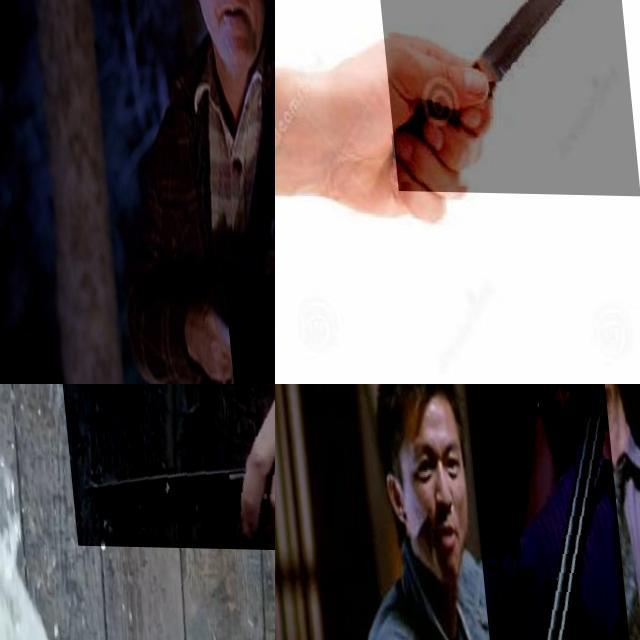-: (365, 0, 631, 193), (56, 384, 275, 548)
gun-knife-thesis - v11 Yolov5 augmented: (460, 384, 634, 640), (213, 272, 275, 384)
